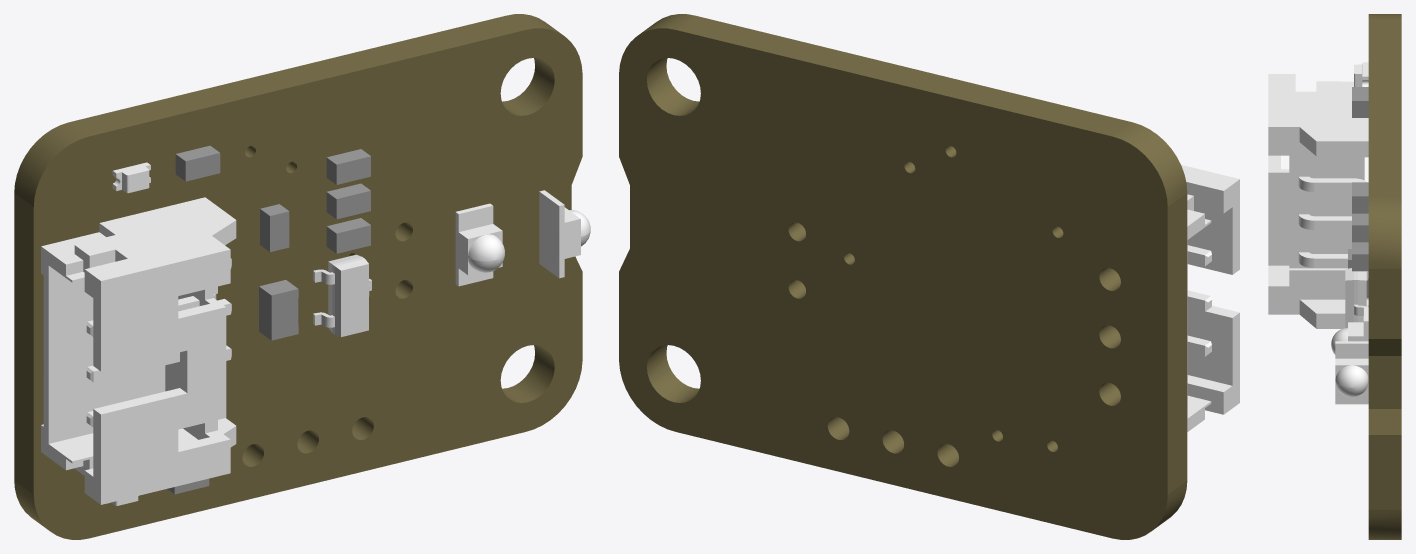
The model's file is 5639 IR LED Emitter.glb.
The picture shows the model from 3 angles, left to right: view 1: azimuth 30°, elevation 25°; view 2: azimuth 150°, elevation 25°; view 3: azimuth 270°, elevation 25°; orthographic projection. The views are drawn at different scales.
Parts seen in each view (by area): view 1: Board, JSTPH3, 0603-NO (×5), SOT23-WIDE, CHIPLED_1206, LED_1206_SIDE, 0805-NO, CHIPLED_0603_NOOUTLINE; view 2: Board, JSTPH3; view 3: JSTPH3, Board, LED_1206_SIDE, 0603-NO (×4), SOT23-WIDE, CHIPLED_1206, CHIPLED_0603_NOOUTLINE.
Part boxes in pixels (left/top/right/bottom): Board: left=14, top=14, right=582, bottom=539; JSTPH3: left=41, top=197, right=236, bottom=504; 0603-NO (×5): left=175, top=145, right=370, bottom=253; SOT23-WIDE: left=313, top=254, right=371, bottom=336; CHIPLED_1206: left=455, top=203, right=504, bottom=286; LED_1206_SIDE: left=539, top=190, right=590, bottom=278; 0805-NO: left=259, top=280, right=298, bottom=340; CHIPLED_0603_NOOUTLINE: left=112, top=162, right=150, bottom=193; Board: left=619, top=14, right=1187, bottom=539; JSTPH3: left=1181, top=165, right=1239, bottom=431; JSTPH3: left=1268, top=74, right=1368, bottom=328; Board: left=1368, top=14, right=1401, bottom=539; LED_1206_SIDE: left=1335, top=341, right=1368, bottom=404; 0603-NO (×4): left=1352, top=87, right=1368, bottom=271; SOT23-WIDE: left=1345, top=268, right=1368, bottom=327; CHIPLED_1206: left=1331, top=307, right=1368, bottom=354; CHIPLED_0603_NOOUTLINE: left=1354, top=62, right=1368, bottom=86.
Bounding box in the file's own units: 25.4 × 17.78 × 6.37.
